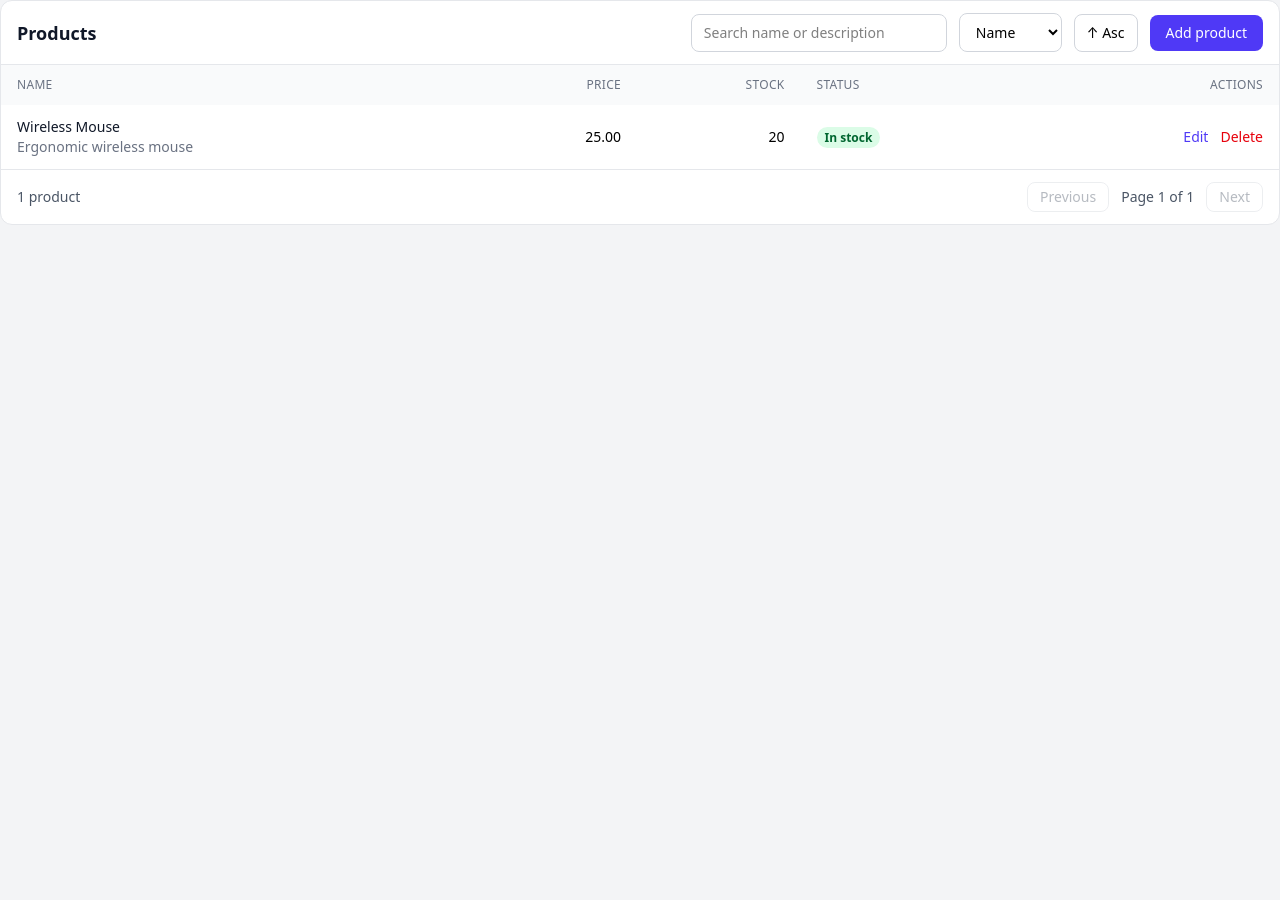
Test: ProductTable › asks for confirmation before deleting and removes the product
Expected: the text "Wireless Mouse" is shown, [17,117,120,136]
What coordinates should you click on to do the following:
click the button with aria-label "Delete Wireless Mouse"
I would click on:
 (1242, 137)
Its box is [1220,127,1263,147].
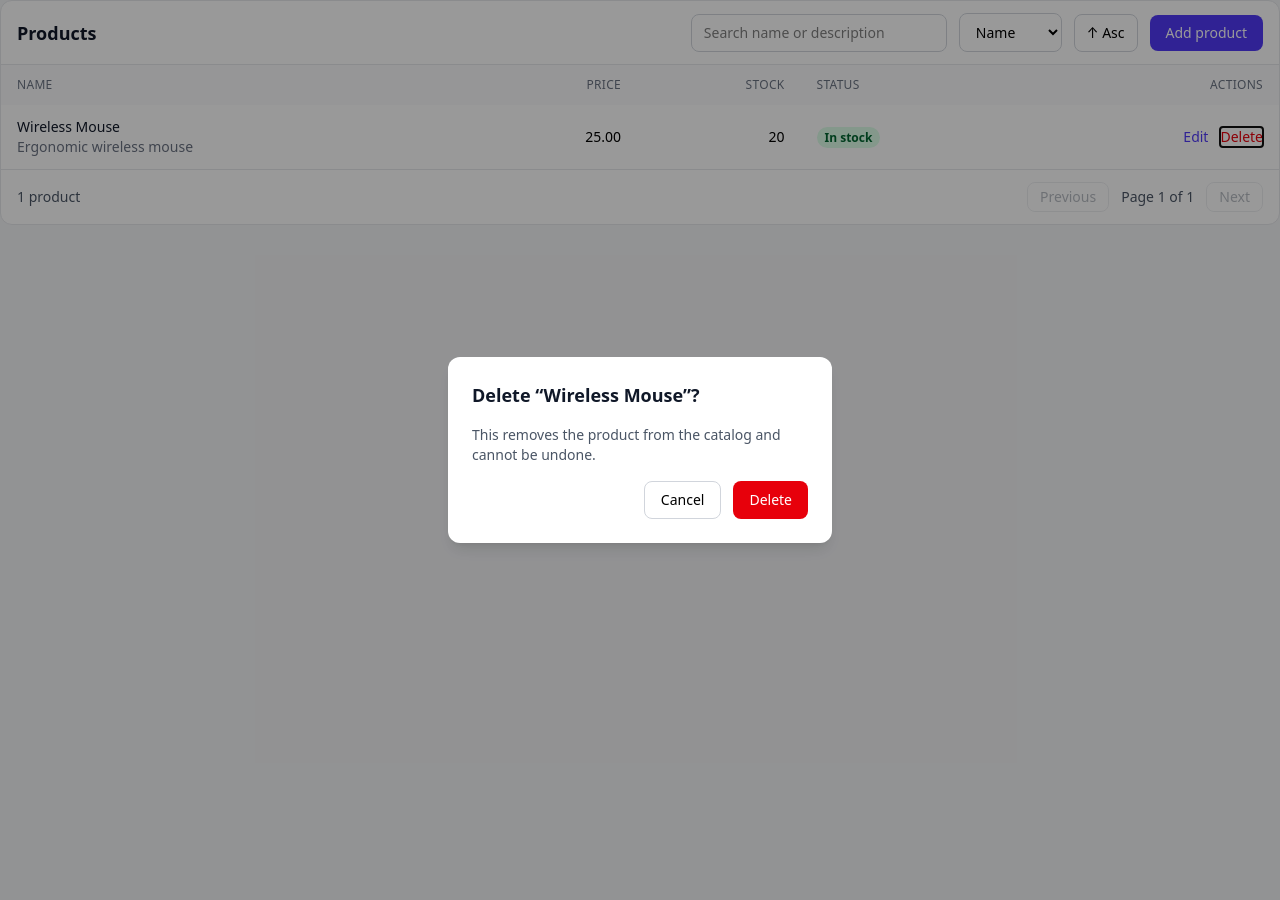
What coordinates should you click on to do the following:
click the button "Delete"
I would click on:
 (771, 500)
Its box is [733,481,808,519].
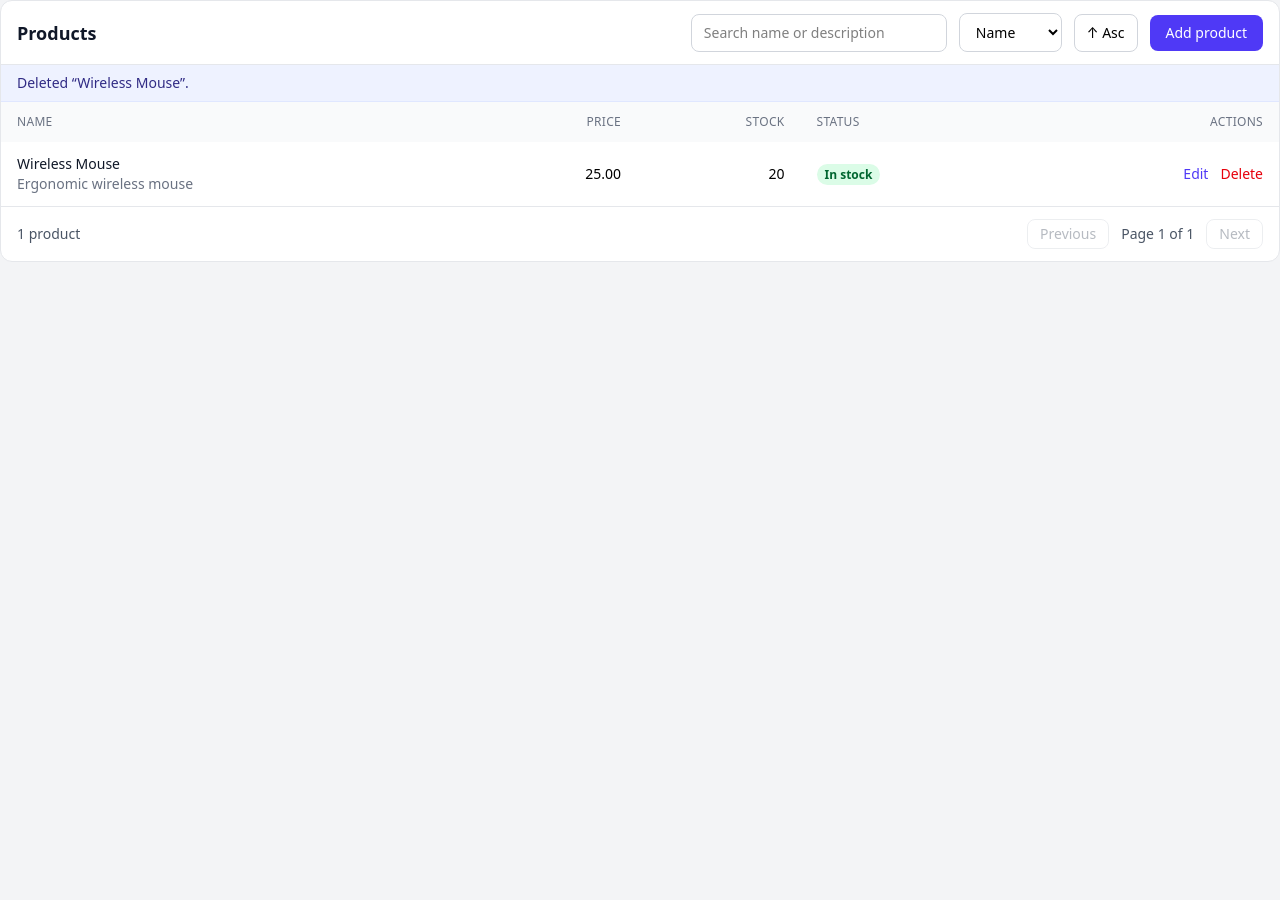
Now the message reads "Deleted “Wireless Mouse”.", box [17,73,189,92]
